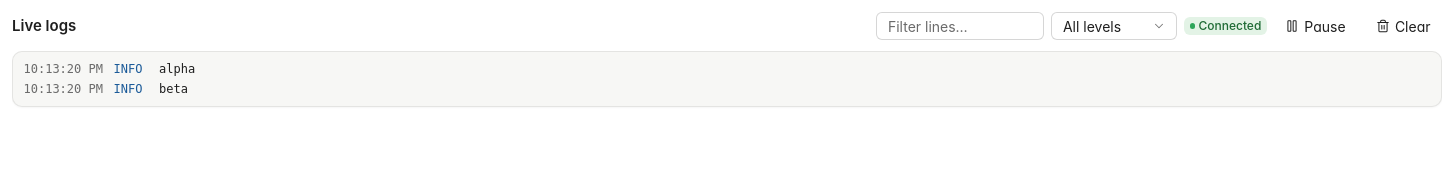
Test: LogsView › text filter hides non-matching lines
This screenshot has width=1452, height=172.
Type "alp" into the field labelled "Filter lines" at (960, 26), box x1=876 y1=12 x2=1044 y2=40
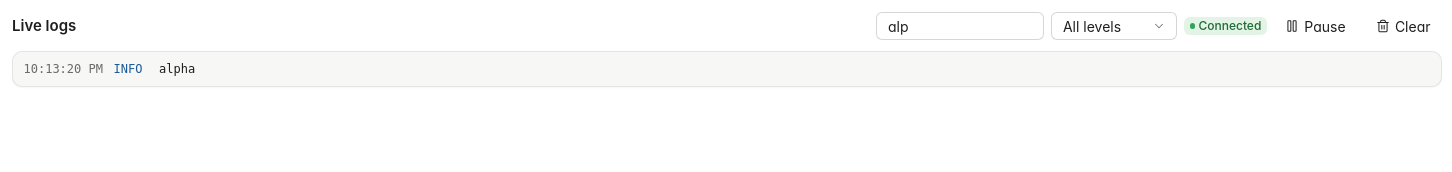
expect the text "alpha" is shown: met, box x1=159 y1=58 x2=195 y2=79
expect the text "beta" is gone: met
